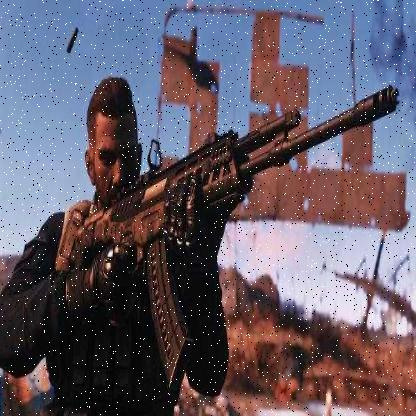rifle: (77, 53, 399, 380)
